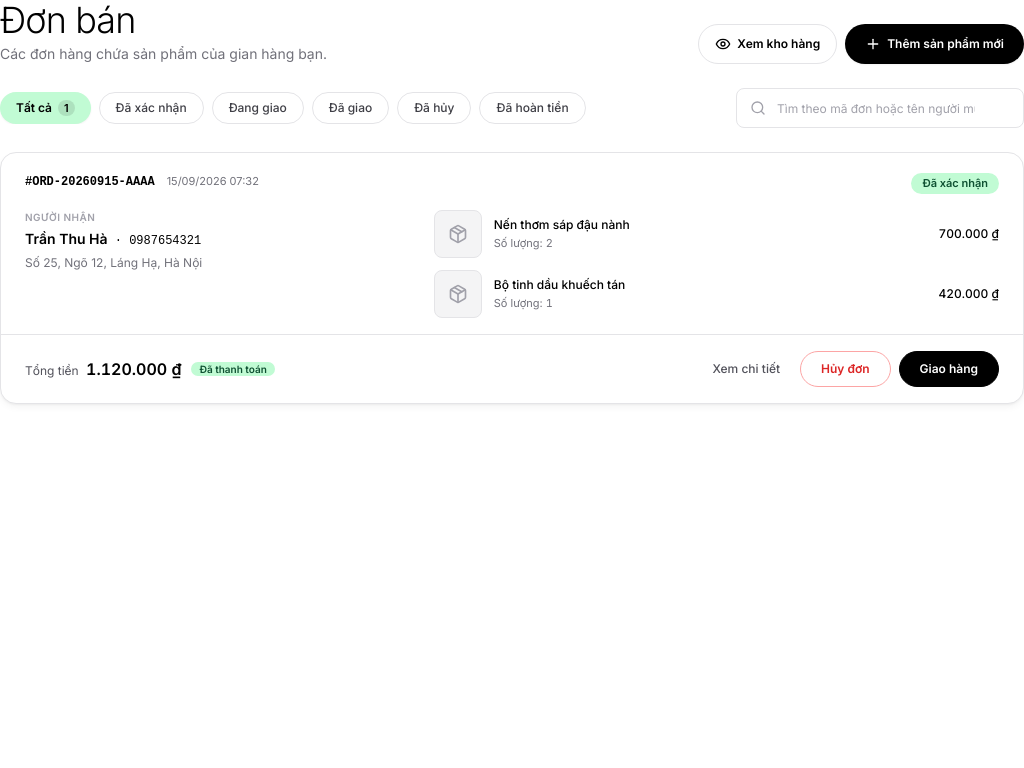
it: SellerOrdersPage › Xem chi tiết: mở ngăn chi tiết với tiến độ, người nhận, sản phẩm và thanh toán
What coordinates should you click on to do the following:
click the button with test id "action-view"
I would click on:
 (746, 369)
Its box is [700,351,792,387].
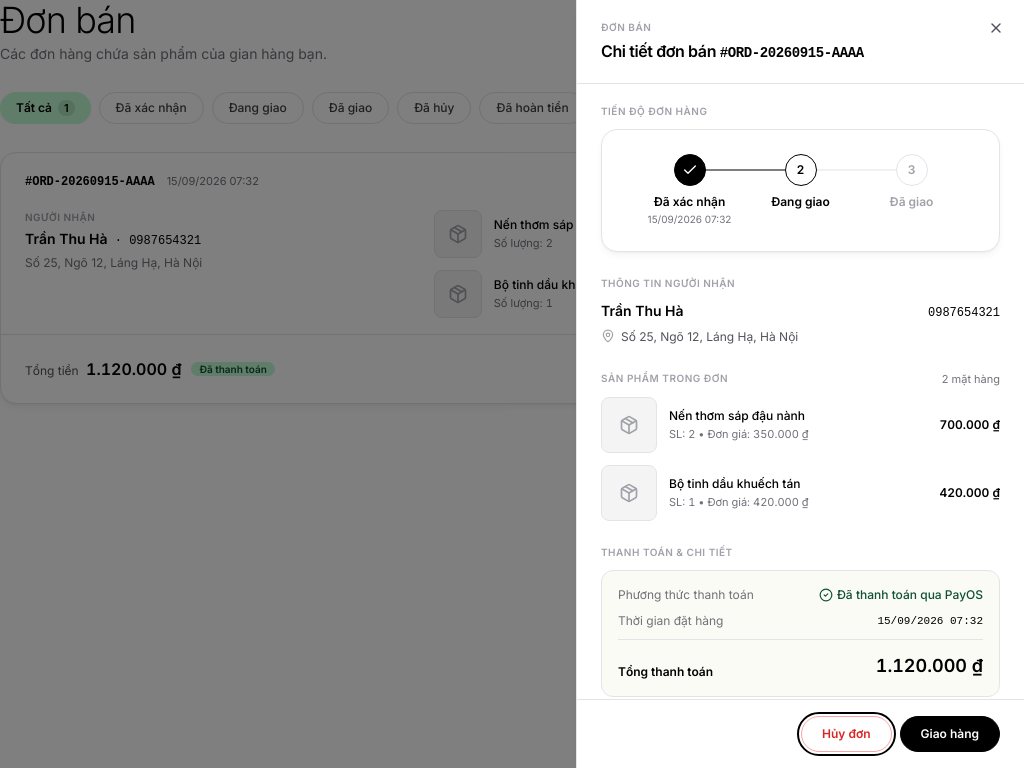
Check: the heading "Chi tiết đơn bán #ORD-20260915-AAAA" is shown, box [601,41,864,61]
Check: the element with test id "order-stepper" is shown, box [601,129,1000,252]
Check: the text "2 mặt hàng" is shown, box [942,370,1000,387]
